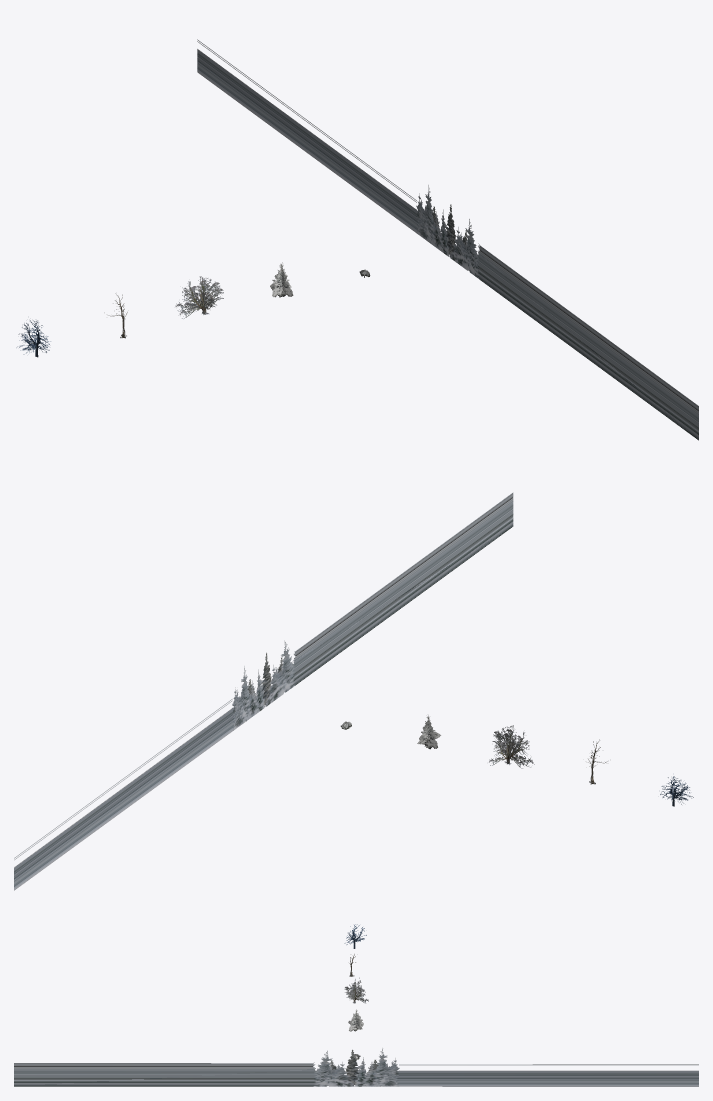
Rendered from snowtrees.glb.
3 views of the same model, one above another, from view 1: azimuth 30°, elevation 25°; view 2: azimuth 150°, elevation 25°; view 3: azimuth 270°, elevation 25° (orthographic). The views are drawn at different scales.
Parts seen in each view (by area): view 1: treeline, deadtreehero; view 2: treeline, deadtreehero; view 3: treeline, deadtreehero.
Boxes of the visible parts, <box> form: treeline: <box>197,39,698,440</box>; deadtreehero: <box>175,276,223,318</box>; treeline: <box>14,492,513,890</box>; deadtreehero: <box>489,725,534,768</box>; treeline: <box>14,1048,698,1086</box>; deadtreehero: <box>344,977,368,1003</box>.
Bounding box in the file's own units: 78.66 × 10 × 157.
6 materials, 6 textured.
